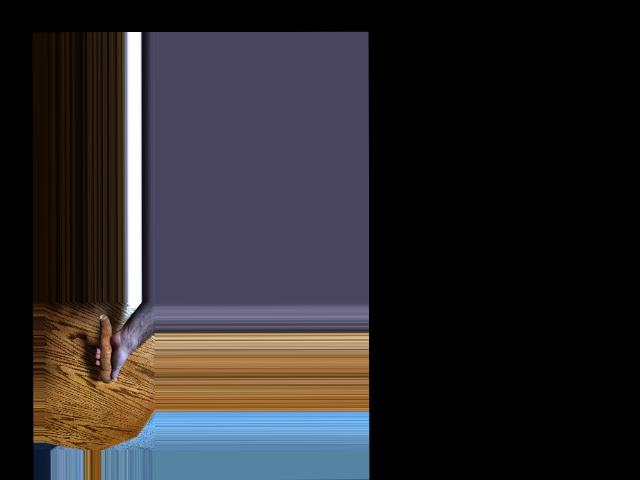sweet_potato: (98, 313, 119, 384)
